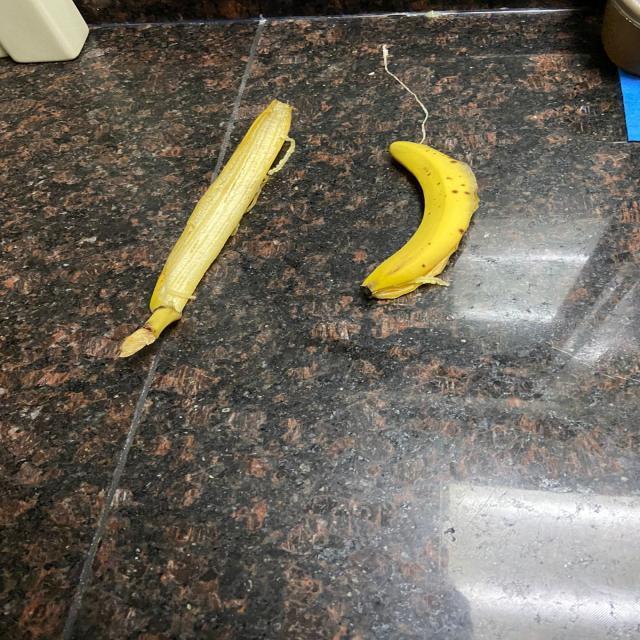Banana: (134, 93, 304, 350), (358, 137, 483, 306)
